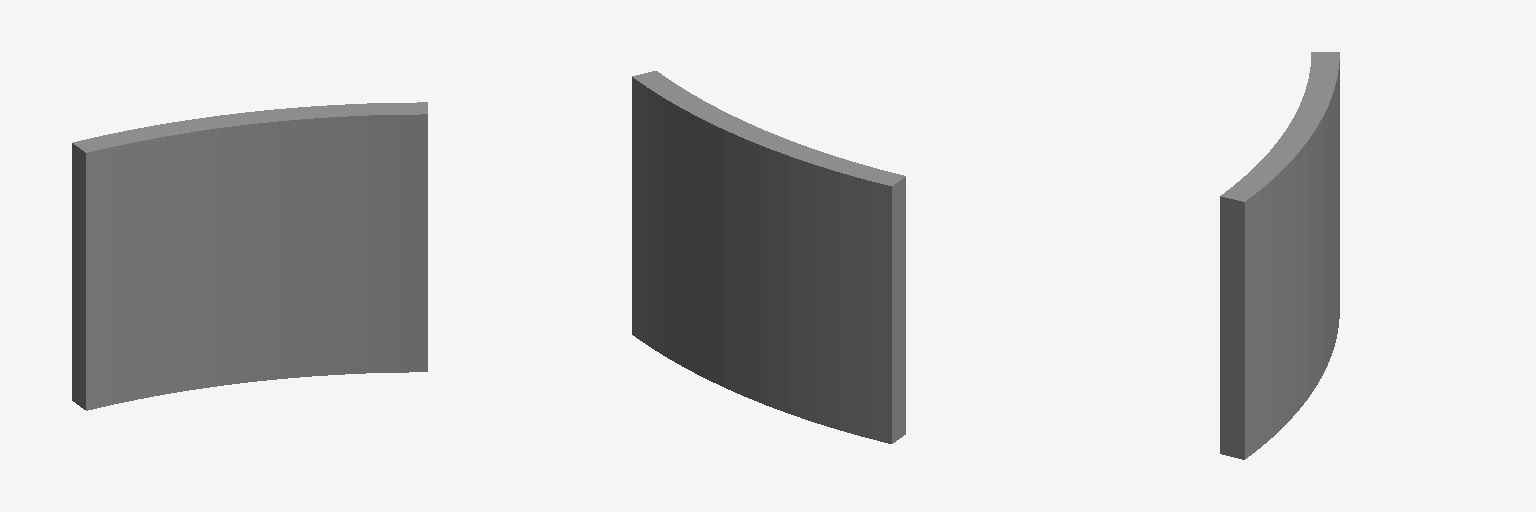
File: wall_flat.obj
The picture shows the model from 3 angles: view 1: azimuth 30°, elevation 25°; view 2: azimuth 150°, elevation 25°; view 3: azimuth 270°, elevation 25°; orthographic projection.
Visible parts, largest first — view 1: MeshBody2.001; view 2: MeshBody2.001; view 3: MeshBody2.001.
Part boxes in pixels (bbox=[...]): MeshBody2.001: bbox=[72, 102, 427, 410]; MeshBody2.001: bbox=[632, 71, 905, 443]; MeshBody2.001: bbox=[1220, 52, 1339, 459].
Size of the model in its own units: 12.5 by 10 by 4.22.